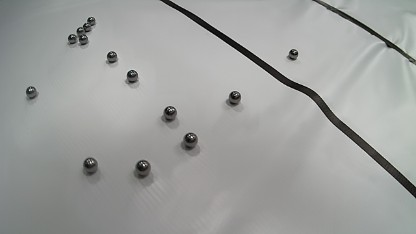ironball: (135, 160, 151, 176), (183, 132, 198, 148), (83, 157, 97, 173), (163, 105, 177, 120), (228, 91, 241, 104), (25, 86, 37, 98), (126, 70, 138, 82), (106, 51, 117, 62), (288, 49, 298, 60), (67, 34, 77, 44), (78, 34, 88, 44), (82, 22, 91, 32), (76, 27, 85, 36), (87, 16, 95, 25)
